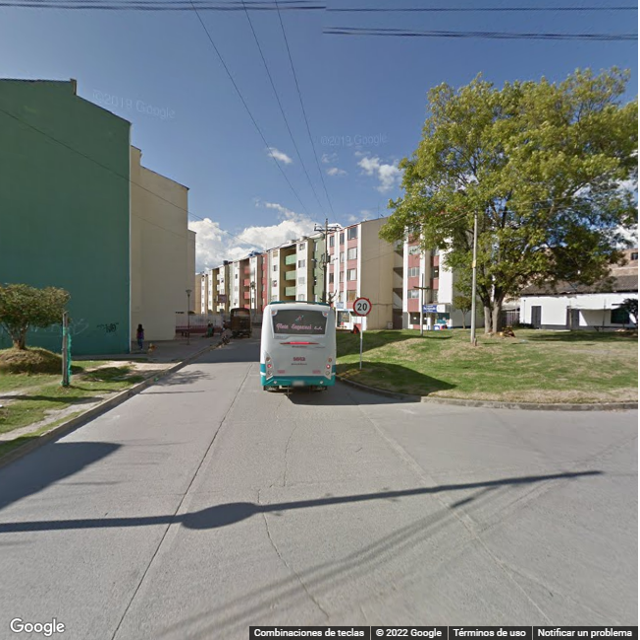D00: (251, 488, 336, 615)
D10: (263, 478, 358, 488)
